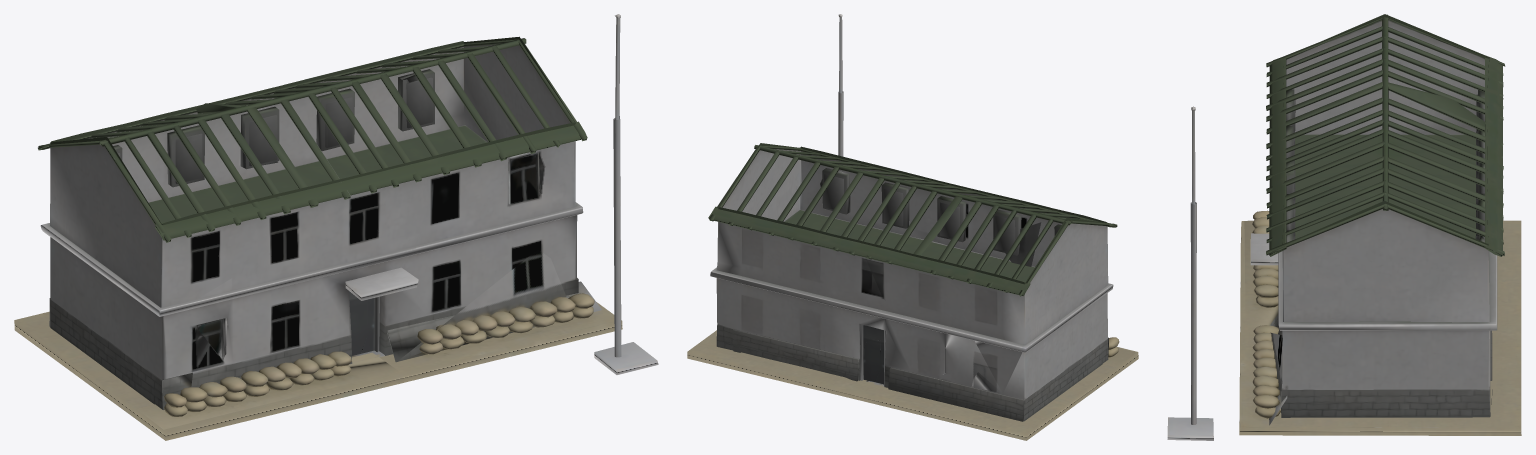
The model's file is cn-barracks.glb.
3 renders of one model, left to right at view 1: azimuth 30°, elevation 25°; view 2: azimuth 150°, elevation 25°; view 3: azimuth 270°, elevation 25°, orthographic. The views are drawn at different scales.
Parts seen in each view (by area): view 1: geometry_0; view 2: geometry_0; view 3: geometry_0.
Boxes of the visible parts, x1,y1,x2,y2 form: geometry_0: (14,14,658,440); geometry_0: (687,14,1138,440); geometry_0: (1167,14,1521,440).
Bounding box in the file's own units: 1 × 0.7293 × 0.7258.
1 material, 1 textured.
